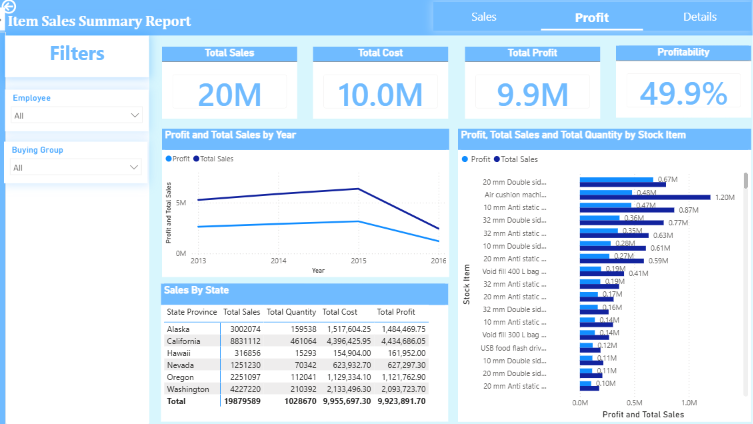

What the dashboard file says about the page in this screenshot:
{"tool":"powerbi","page":{"name":"Profit","canvas":[1280,720],"ordinal":1},"visuals":[{"type":"shape","box":[0,0,1280,65],"z":0},{"type":"shape","box":[0,59.1,22.7,660.9],"z":1000},{"type":"shape","box":[23.3,66.7,239.1,654.5],"z":2000},{"type":"textbox","box":[21.2,21.2,362.5,37.5],"z":3000},{"type":"cardVisual","title":"Total Sales","fields":{"Data":["Sum(FactSale.Total Excluding Tax)"]},"box":[282.5,82.5,225.5,120],"z":4000},{"type":"textbox","box":[22.5,65.5,240,69.1],"z":5000},{"type":"lineChart","fields":{"Category":["DimDate.Date.Variation.Date Hierarchy.Year","DimDate.Date.Variation.Date Hierarchy.Quarter","DimDate.Date.Variation.Date Hierarchy.Month","DimDate.Date.Variation.Date Hierarchy.Day"],"Y":["Sum(FactSale.Profit)","FactSale.Total Sales"]},"box":[283.3,220,478.6,247.1],"z":6000},{"type":"clusteredBarChart","fields":{"Category":["DimStockItem.Stock Item"],"Y":["Sum(FactSale.Profit)","FactSale.Total Sales"]},"box":[776.7,220,488.3,488.3],"z":7000},{"type":"pivotTable","title":"Sales By State","fields":{"Rows":["DimCity.State Province"],"Values":["Sum(FactSale.Total Excluding Tax)","Sum(FactSale.Quantity)","Sum(FactSale.Cost)","Sum(FactSale.Profit)"]},"box":[281.7,478.3,478.3,230],"z":8000},{"type":"slicer","fields":{"Values":["DimEmployee.Employee"]},"box":[20.9,155.5,239,69.1],"z":9000},{"type":"slicer","fields":{"Values":["DimCustomer.Buying Group"]},"box":[20.8,241.9,239,69],"z":12000},{"type":"shape","box":[363.1,21.2,20.6,41.2],"z":13000},{"type":"cardVisual","title":"Total Cost","fields":{"Data":["Sum(FactSale.Cost)"]},"box":[534.3,82.6,225.5,120],"z":14000},{"type":"cardVisual","title":"Total Profit","fields":{"Data":["Sum(FactSale.Profit)"]},"box":[787.5,82.6,225.5,120],"z":15000},{"type":"cardVisual","title":"Profitability","fields":{"Data":["FactSale.Profitability"]},"box":[1040,82.3,225.5,120],"z":16000},{"type":"pageNavigator","box":[735,8.3,530,48.3],"z":17000},{"type":"actionButton","box":[11.4,0,93.6,32.9],"z":17001}]}

Visuals, with their boxes in screenshot pixels (x1, y1, x2, y2), scaled from the page's 1280x720 canvas onto the 753x424 screenshot:
shape: (x1=0, y1=0, x2=752, y2=38)
shape: (x1=0, y1=35, x2=13, y2=423)
shape: (x1=14, y1=39, x2=154, y2=423)
textbox: (x1=12, y1=12, x2=226, y2=35)
"Total Sales" cardVisual: (x1=166, y1=49, x2=299, y2=119)
textbox: (x1=13, y1=39, x2=154, y2=79)
lineChart - DimDate.Date.Variation.Date Hierarchy.Year x DimDate.Date.Variation.Date Hierarchy.Quarter: (x1=167, y1=130, x2=448, y2=275)
clusteredBarChart - DimStockItem.Stock Item x Sum(FactSale.Profit): (x1=457, y1=130, x2=744, y2=417)
"Sales By State" pivotTable: (x1=166, y1=282, x2=447, y2=417)
slicer - DimEmployee.Employee: (x1=12, y1=92, x2=153, y2=132)
slicer - DimCustomer.Buying Group: (x1=12, y1=142, x2=153, y2=183)
shape: (x1=214, y1=12, x2=226, y2=37)
"Total Cost" cardVisual: (x1=314, y1=49, x2=447, y2=119)
"Total Profit" cardVisual: (x1=463, y1=49, x2=596, y2=119)
"Profitability" cardVisual: (x1=612, y1=48, x2=744, y2=119)
pageNavigator: (x1=432, y1=5, x2=744, y2=33)
actionButton: (x1=7, y1=0, x2=62, y2=19)
